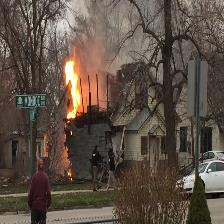fire: (64, 60, 82, 119)
smoke: (84, 16, 113, 89)
